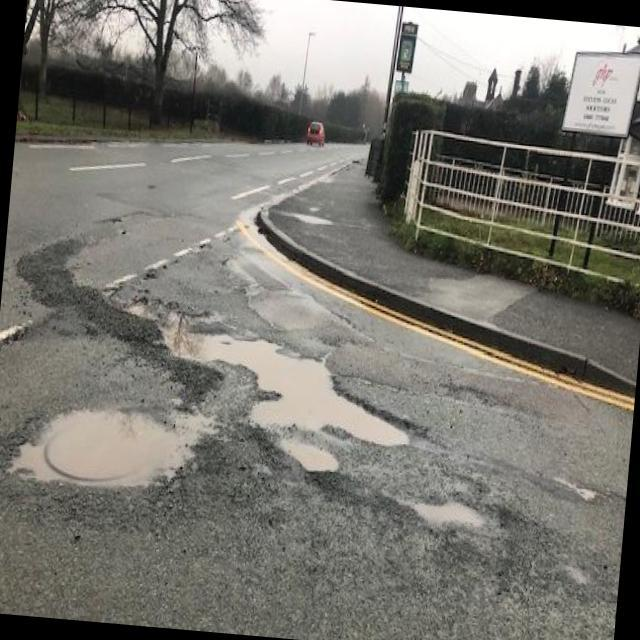Pothole: (11, 376, 196, 514), (242, 328, 430, 456), (121, 277, 251, 383), (404, 484, 490, 541), (274, 436, 344, 482), (546, 472, 604, 508), (557, 559, 597, 593)
